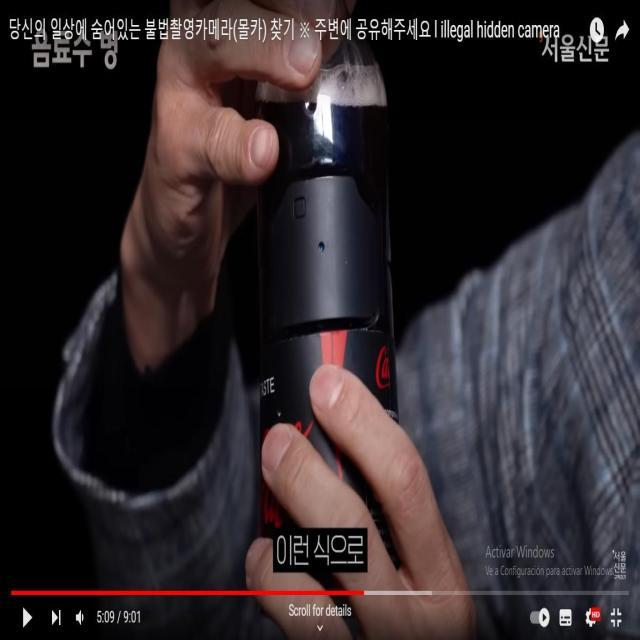hidden camera: (312, 229, 333, 264)
